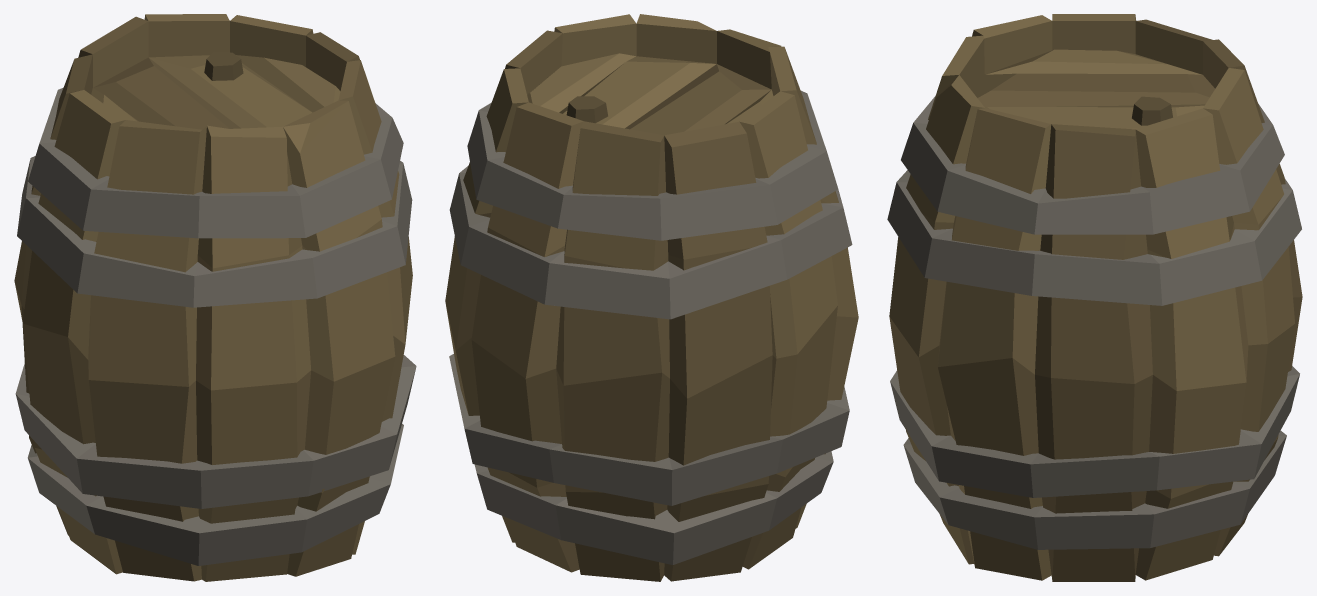
Rendered from Barrel_5.fbx.
The picture shows the model from 3 angles, left to right: view 1: azimuth 30°, elevation 25°; view 2: azimuth 150°, elevation 25°; view 3: azimuth 270°, elevation 25°; orthographic projection.
Parts seen in each view (by area): view 1: Barrel_5; view 2: Barrel_5; view 3: Barrel_5.
Boxes of the visible parts, x1,y1,x2,y2 form: Barrel_5: [14, 14, 416, 581]; Barrel_5: [445, 14, 858, 581]; Barrel_5: [887, 14, 1302, 581].
Bounding box in the file's own units: 46.17 × 59.16 × 48.18.
